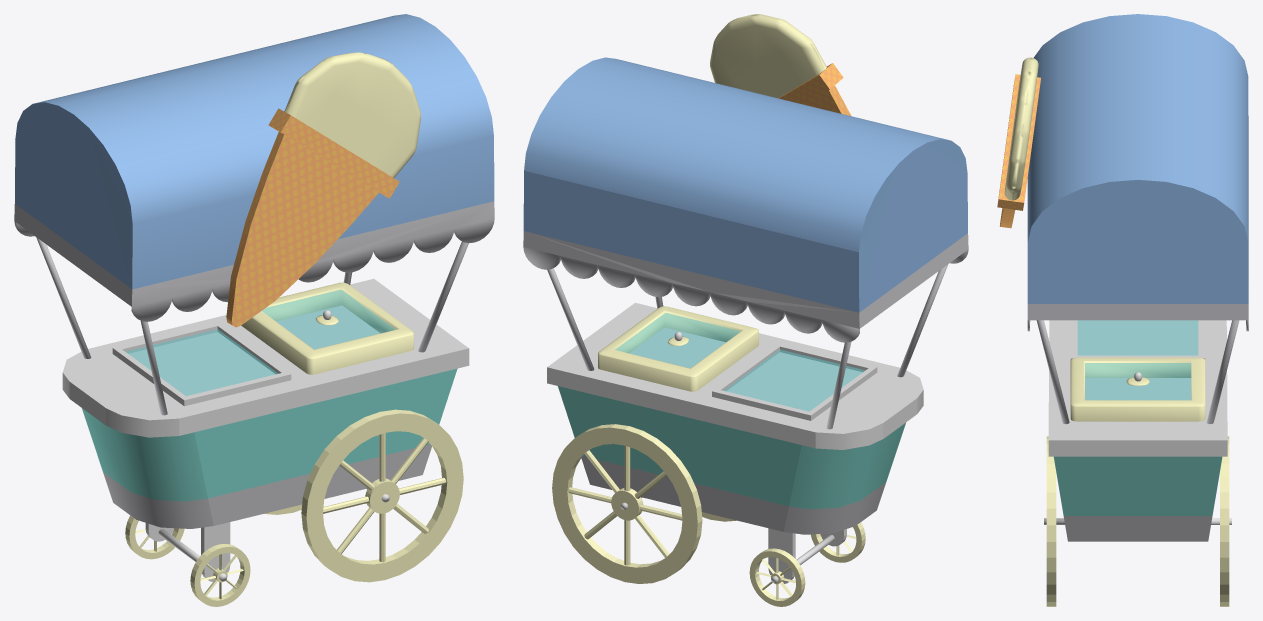
Rendered from ice cream stand.fbx.
3 views of the same model, side by side, from view 1: azimuth 30°, elevation 25°; view 2: azimuth 150°, elevation 25°; view 3: azimuth 270°, elevation 25° (orthographic). The views are drawn at different scales.
Parts seen in each view (by area): view 1: ice cream stand, body, body_steel, corn1, wheel, ice, parts2, grass1, grass2, parts1, wheel_small, corn2 (+2 smaller); view 2: ice cream stand, body, body_steel, wheel, ice, parts2, grass1, grass2, parts1, wheel_small, pole1, wheel_parts (+2 smaller); view 3: ice cream stand, body_steel, body, parts2, grass1, grass2, wheel, ice, pole1, corn2, parts1.
Part boxes in pixels (left/top/right/bottom): ice cream stand: left=14, top=14, right=494, bottom=321; body: left=82, top=368, right=457, bottom=528; body_steel: left=62, top=278, right=469, bottom=437; corn1: left=226, top=132, right=378, bottom=327; wheel: left=264, top=409, right=463, bottom=582; ice: left=284, top=52, right=420, bottom=177; parts2: left=241, top=282, right=413, bottom=374; grass1: left=126, top=329, right=277, bottom=395; grass2: left=262, top=289, right=395, bottom=349; parts1: left=112, top=322, right=291, bottom=406; wheel_small: left=125, top=515, right=250, bottom=606; corn2: left=268, top=108, right=399, bottom=198; ice cream stand: left=523, top=57, right=968, bottom=342; body: left=558, top=386, right=905, bottom=534; body_steel: left=547, top=302, right=923, bottom=449; wheel: left=552, top=424, right=736, bottom=583; ice: left=710, top=14, right=826, bottom=98; parts2: left=598, top=306, right=758, bottom=391; grass1: left=724, top=349, right=865, bottom=411; grass2: left=615, top=313, right=740, bottom=368; parts1: left=712, top=343, right=877, bottom=420; wheel_small: left=749, top=522, right=865, bottom=606; pole1: left=547, top=264, right=947, bottom=429; wheel_parts: left=768, top=528, right=846, bottom=583; ice cream stand: left=1027, top=14, right=1248, bottom=331; body_steel: left=1048, top=320, right=1227, bottom=456; body: left=1054, top=456, right=1222, bottom=541; parts2: left=1070, top=357, right=1205, bottom=421; grass1: left=1077, top=320, right=1198, bottom=355; grass2: left=1085, top=363, right=1191, bottom=400; wheel: left=1046, top=436, right=1229, bottom=606; ice: left=1004, top=57, right=1038, bottom=200; pole1: left=1036, top=320, right=1239, bottom=424; corn2: left=997, top=74, right=1040, bottom=210; parts1: left=1070, top=320, right=1205, bottom=359.
Size of the model in its own units: 1.83 by 2.62 by 1.17.
7 materials, 1 textured.
